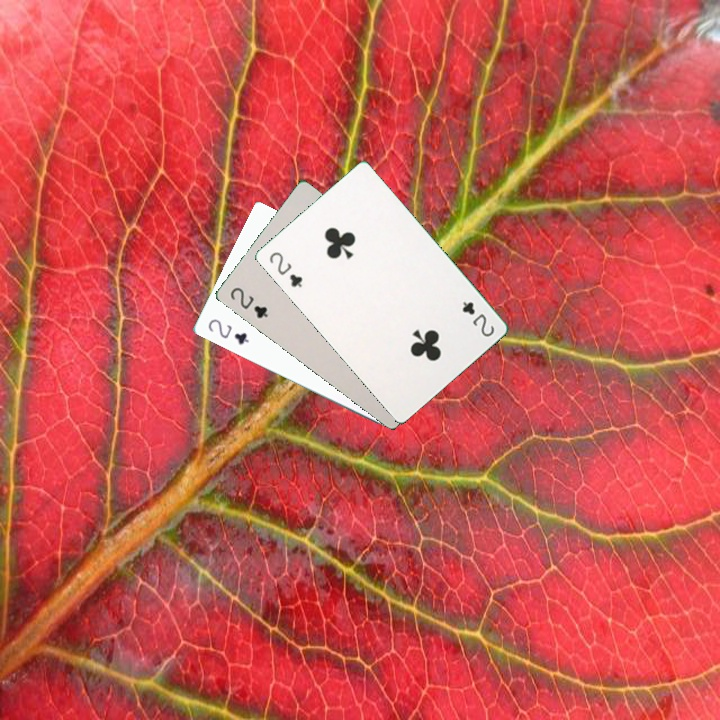2c: (265, 247, 305, 290), (226, 283, 271, 321), (458, 297, 497, 339), (204, 315, 251, 348)
